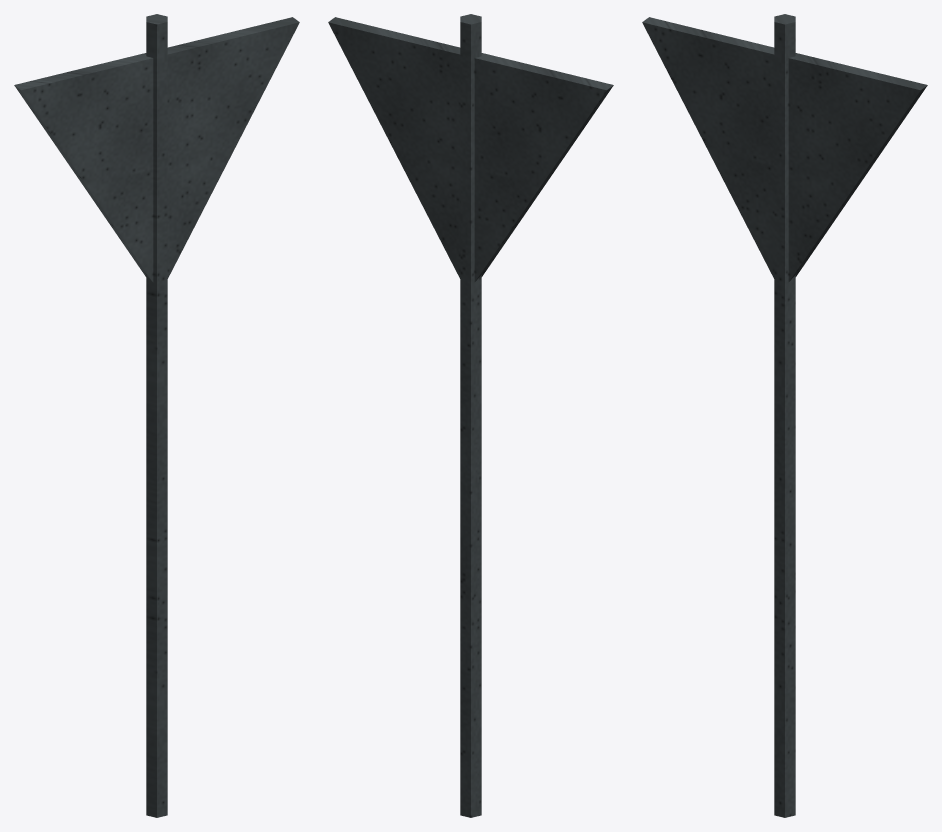
File: PROP-A0EEC9A844C4_lod2.glb
The picture shows the model from 3 angles, left to right: view 1: azimuth 30°, elevation 25°; view 2: azimuth 150°, elevation 25°; view 3: azimuth 330°, elevation 25°; orthographic projection.
Visible parts, largest first — view 1: shaped_sign_plate.012, sign_post.034; view 2: shaped_sign_plate.012, sign_post.034; view 3: shaped_sign_plate.012, sign_post.034.
Boxes of the visible parts, x1=… form: shaped_sign_plate.012: x1=14, y1=17, x2=299, y2=281; sign_post.034: x1=146, y1=14, x2=167, y2=817; shaped_sign_plate.012: x1=328, y1=17, x2=613, y2=281; sign_post.034: x1=460, y1=14, x2=481, y2=817; shaped_sign_plate.012: x1=642, y1=17, x2=927, y2=281; sign_post.034: x1=774, y1=14, x2=795, y2=817.
Size of the model in its own units: 0.9007 by 2.45 by 0.0606.
Materials: 1 (1 with a texture image).
